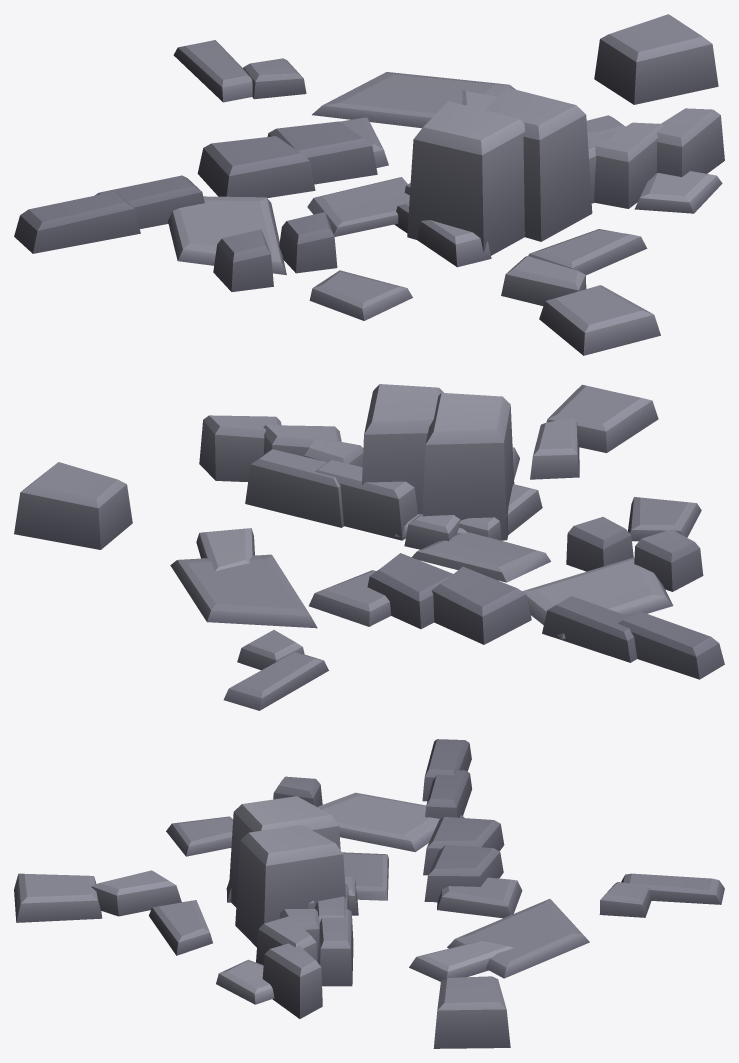
The model's file is Stage_03_Gravestone_particle.fbx.
The picture shows the model from 3 angles, top to bottom: view 1: azimuth 30°, elevation 25°; view 2: azimuth 150°, elevation 25°; view 3: azimuth 270°, elevation 25°; orthographic projection. The views are drawn at different scales.
Visible parts, largest first — view 1: Stones001.001, Stones003, Rocks2, FenceSection010.018, Rocks003, FenceSection010.012; view 2: Stones001.001, Stones003, Rocks2, FenceSection010.018, Rocks003, FenceSection010.012; view 3: Stones003, Stones001.001, Rocks2, FenceSection010.018, Rocks003, FenceSection010.012.
Boxes of the visible parts, <box> form: Stones001.001: <box>14,14,718,291</box>; Stones003: <box>95,87,724,273</box>; Rocks2: <box>307,72,647,320</box>; FenceSection010.018: <box>173,40,660,355</box>; Rocks003: <box>168,90,722,275</box>; FenceSection010.012: <box>243,58,586,305</box>; Stones001.001: <box>14,393,724,679</box>; Stones003: <box>199,384,637,662</box>; Rocks2: <box>170,447,701,628</box>; FenceSection010.018: <box>223,384,658,710</box>; Rocks003: <box>196,514,673,639</box>; FenceSection010.012: <box>237,418,579,670</box>; Stones003: <box>235,770,503,1018</box>; Stones001.001: <box>228,739,510,1048</box>; Rocks2: <box>149,816,589,978</box>; FenceSection010.018: <box>14,873,724,922</box>; Rocks003: <box>216,792,513,1004</box>; FenceSection010.012: <box>91,870,651,917</box>.
Bounding box in the file's own units: 5.91 × 0.9278 × 6.11.
